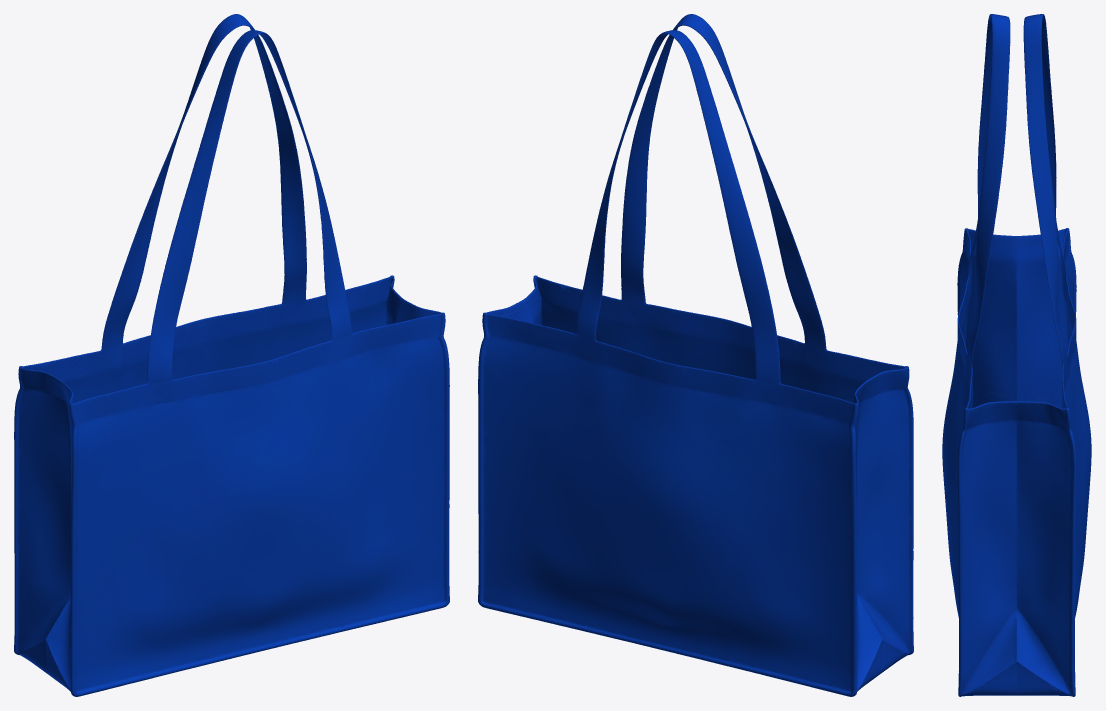
File: Reusable_Bag_Large.glb
3 views of the same model, side by side, from view 1: azimuth 30°, elevation 25°; view 2: azimuth 150°, elevation 25°; view 3: azimuth 270°, elevation 25° (orthographic).
Parts seen in each view (by area): view 1: Reusable_Shopping_Bag; view 2: Reusable_Shopping_Bag; view 3: Reusable_Shopping_Bag.
Part boxes in pixels (box(x1,y1,x2,y2)): Reusable_Shopping_Bag: box(14, 14, 449, 696); Reusable_Shopping_Bag: box(478, 14, 913, 696); Reusable_Shopping_Bag: box(942, 14, 1091, 696).
Size of the model in its own units: 0.4023 by 0.6141 by 0.1383.
1 material, 1 textured.
